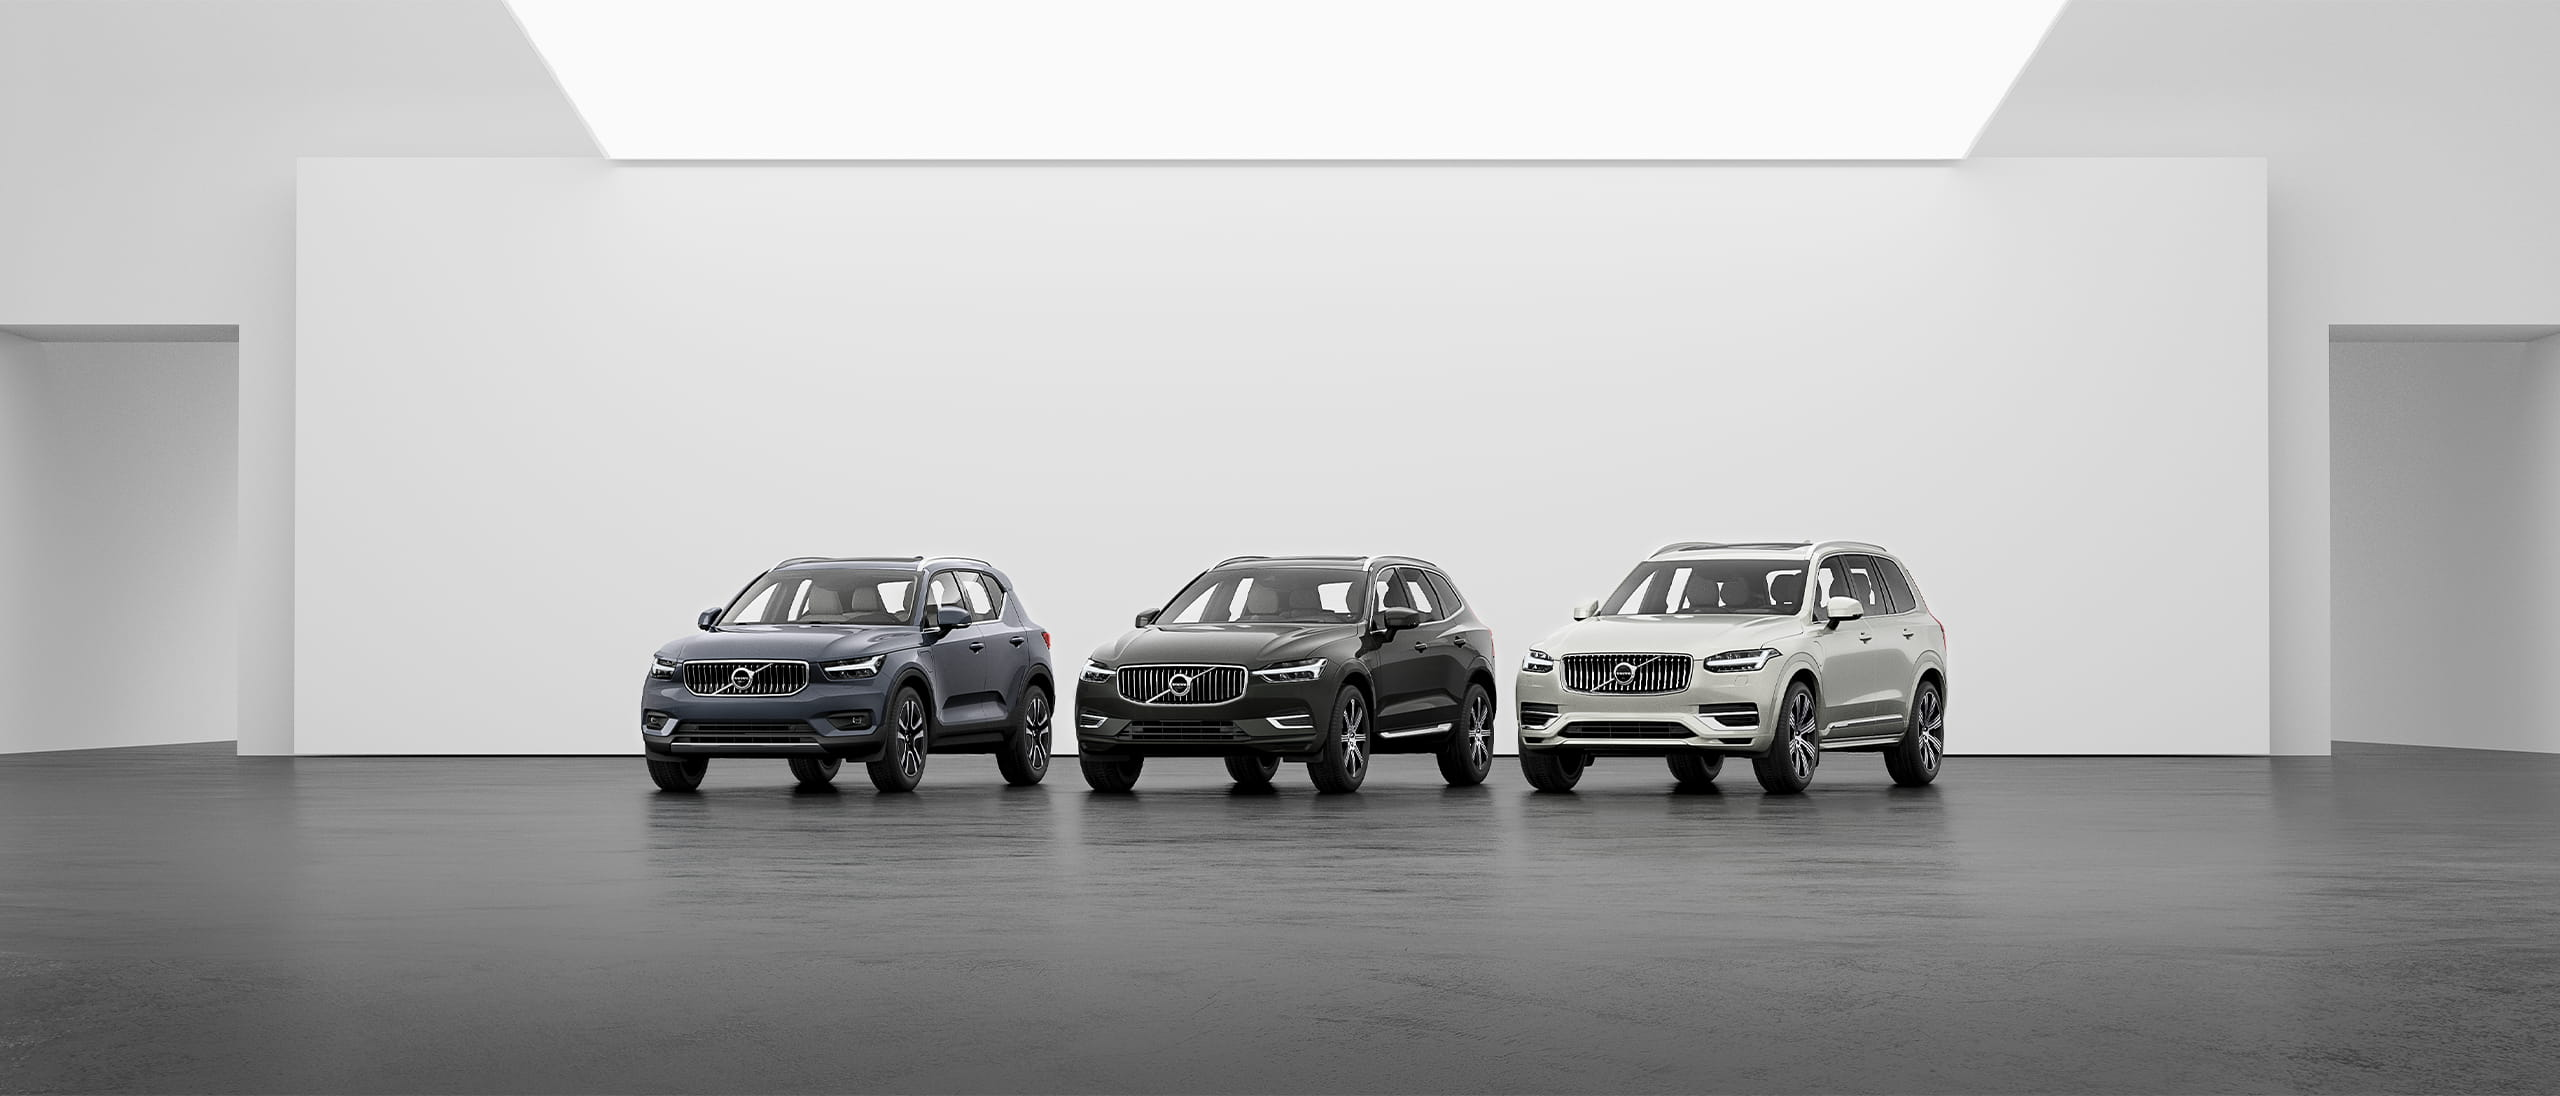car: (1513, 539, 1949, 795), (1073, 554, 1499, 794), (638, 552, 1055, 797)
